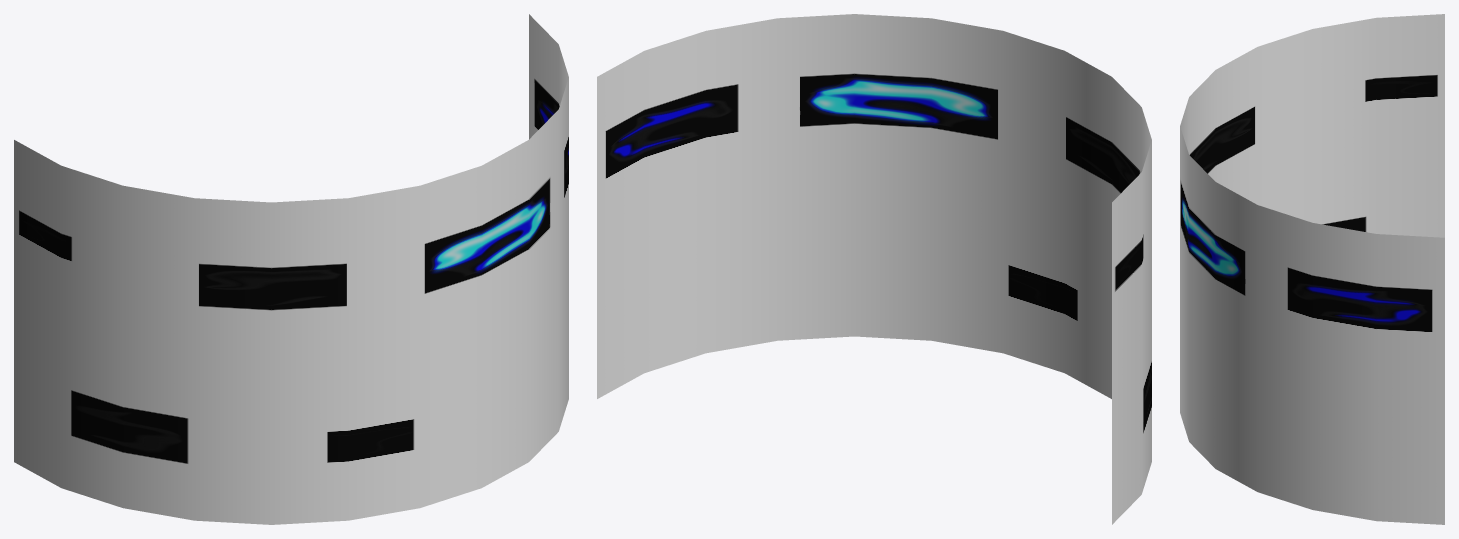
3 renders of one model, left to right at view 1: azimuth 30°, elevation 25°; view 2: azimuth 150°, elevation 25°; view 3: azimuth 270°, elevation 25°, orthographic. The views are drawn at different scales.
Parts seen in each view (by area): view 1: Cylinder; view 2: Cylinder; view 3: Cylinder.
Boxes of the visible parts, left/top/right/bottom form: Cylinder: left=14, top=14, right=568, bottom=524; Cylinder: left=597, top=14, right=1151, bottom=524; Cylinder: left=1180, top=14, right=1444, bottom=524.
Size of the model in its own units: 282 by 169 by 141.
Materials: 1 (1 with a texture image).
